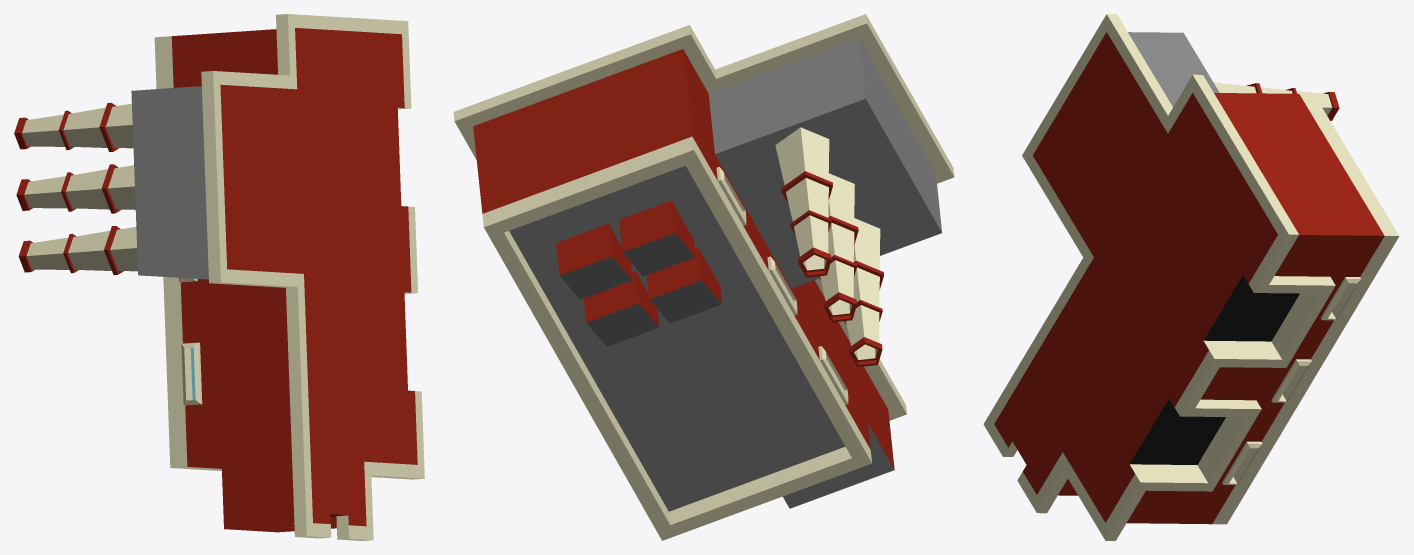
The model's file is planet_factory.glb.
3 views of the same model, side by side, from view 1: azimuth 30°, elevation 25°; view 2: azimuth 150°, elevation 25°; view 3: azimuth 270°, elevation 25° (orthographic). The views are drawn at different scales.
Parts seen in each view (by area): view 1: factory; view 2: factory; view 3: factory.
Part boxes in pixels (left/top/right/bottom): factory: left=14, top=14, right=424, bottom=540; factory: left=453, top=14, right=954, bottom=540; factory: left=983, top=14, right=1399, bottom=540.
Bounding box in the file's own units: 8.5 × 9.85 × 8.22.
